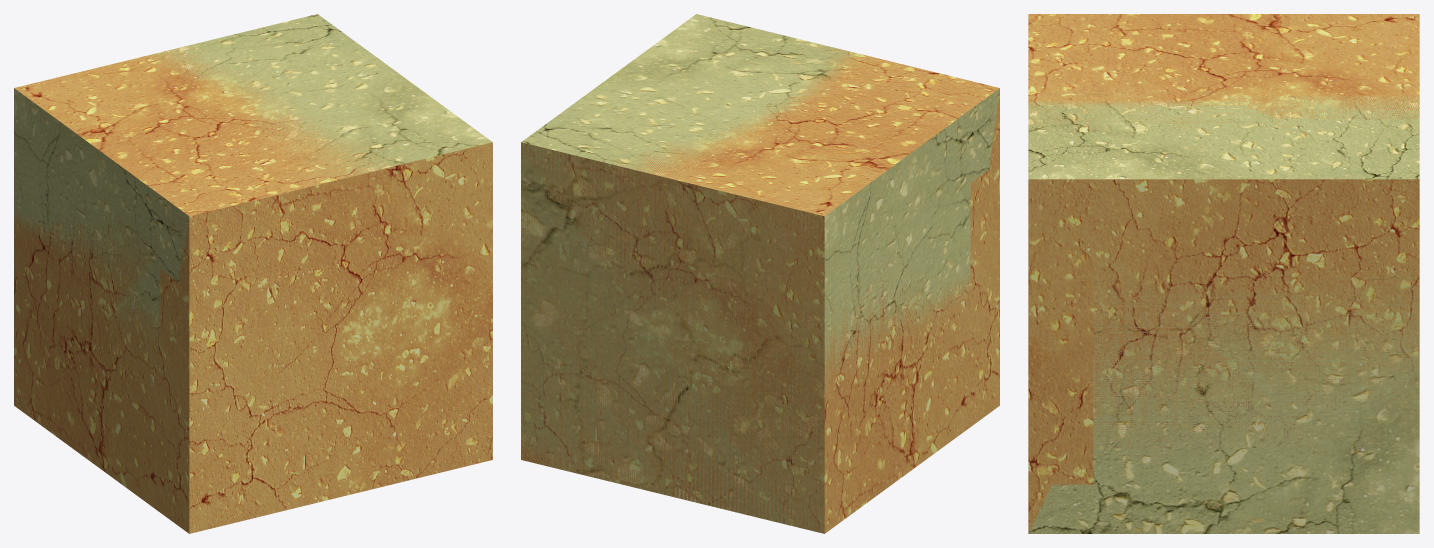
The model's file is assets.fbx.
The picture shows the model from 3 angles, left to right: view 1: azimuth 30°, elevation 25°; view 2: azimuth 150°, elevation 25°; view 3: azimuth 270°, elevation 25°; orthographic projection. The views are drawn at different scales.
Parts seen in each view (by area): view 1: tile2, tile1Dig; view 2: tile2, tile1Dig; view 3: tile2, tile1Dig.
Part boxes in pixels (<box>): tile2: <box>14,45,492,533</box>; tile1Dig: <box>14,14,492,356</box>; tile2: <box>521,45,999,533</box>; tile1Dig: <box>521,14,999,533</box>; tile2: <box>1028,14,1419,533</box>; tile1Dig: <box>1028,91,1419,533</box>.
Size of the model in its own units: 2 by 2 by 2.
